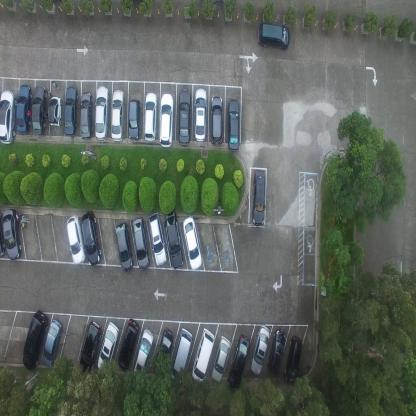car: (22, 309, 48, 370), (227, 334, 250, 392), (191, 328, 215, 383), (164, 208, 184, 270), (172, 326, 194, 382), (80, 210, 102, 266), (117, 319, 140, 371), (132, 328, 154, 382), (97, 322, 119, 374), (80, 321, 101, 375), (182, 216, 203, 269), (1, 208, 22, 261), (41, 319, 63, 369), (65, 214, 86, 266), (250, 324, 271, 376), (148, 212, 167, 268), (154, 327, 174, 379), (211, 335, 232, 384), (132, 216, 150, 272), (115, 221, 134, 272), (284, 335, 303, 386), (256, 23, 290, 51), (267, 328, 286, 376), (0, 90, 16, 145), (159, 92, 174, 150), (30, 84, 46, 138), (16, 85, 32, 136), (252, 168, 266, 226), (63, 85, 78, 138), (194, 87, 208, 143), (94, 85, 108, 140), (178, 89, 191, 146), (210, 94, 224, 146), (111, 88, 124, 142), (227, 99, 240, 153), (79, 90, 92, 141), (144, 92, 156, 144), (127, 98, 141, 141), (48, 96, 61, 127)
